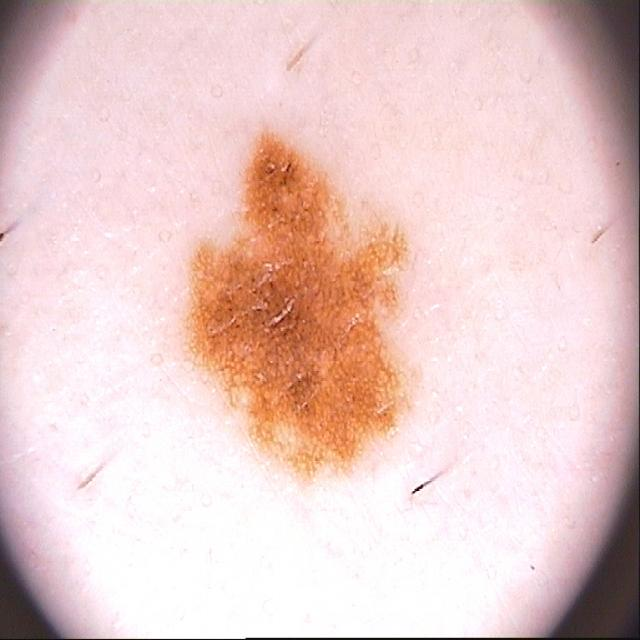Skin-Cancer Nevus: (69, 42, 608, 544)
